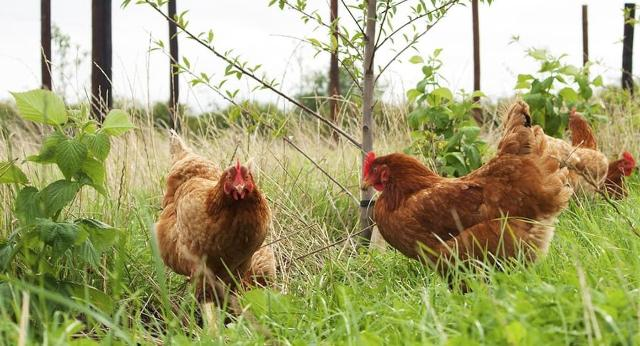Chicken: (362, 97, 572, 284), (155, 129, 273, 295), (565, 108, 638, 200)
